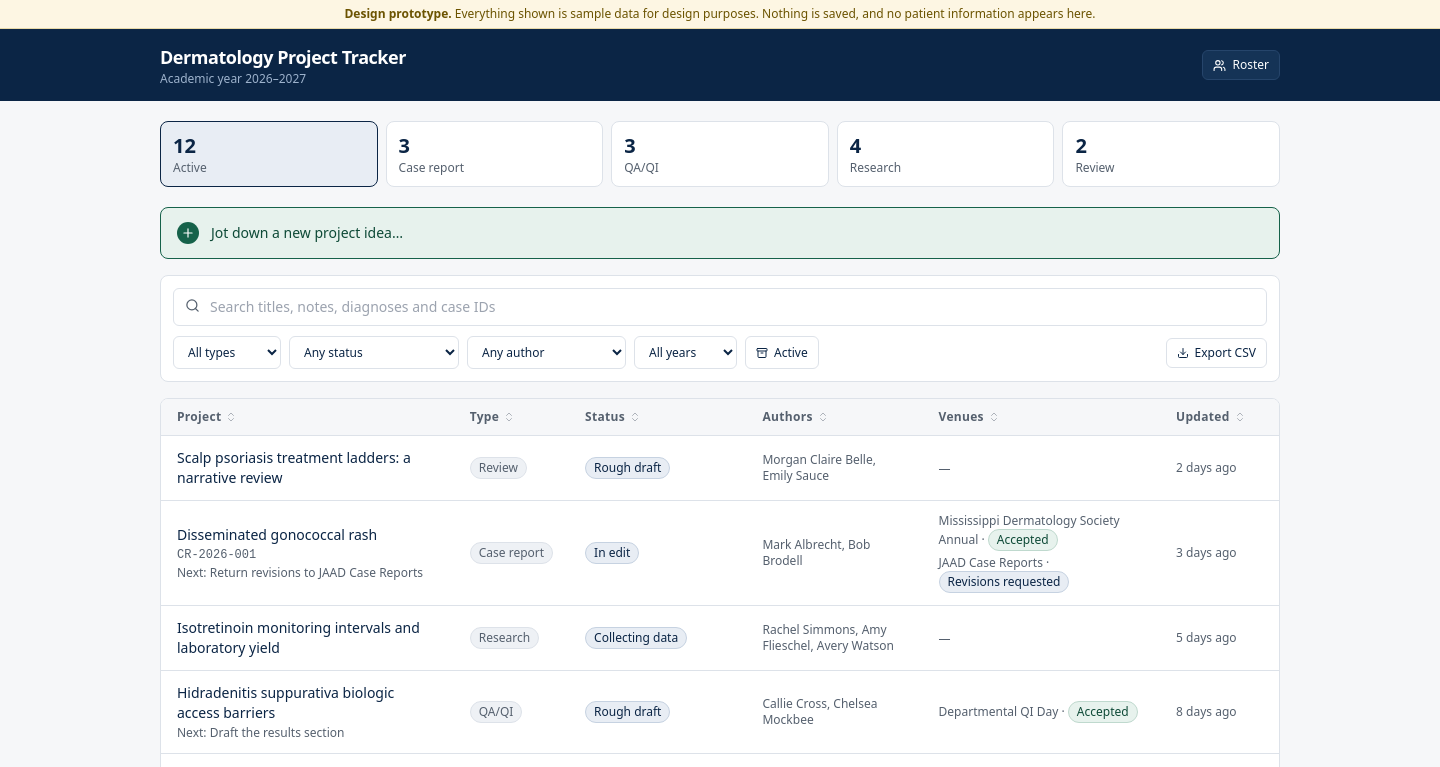
Test case: searching matches what is on the table › says so when nothing matches
Type "zzzzzz" into the field named "Search projects" at (720, 307), box [173,288,1267,326]
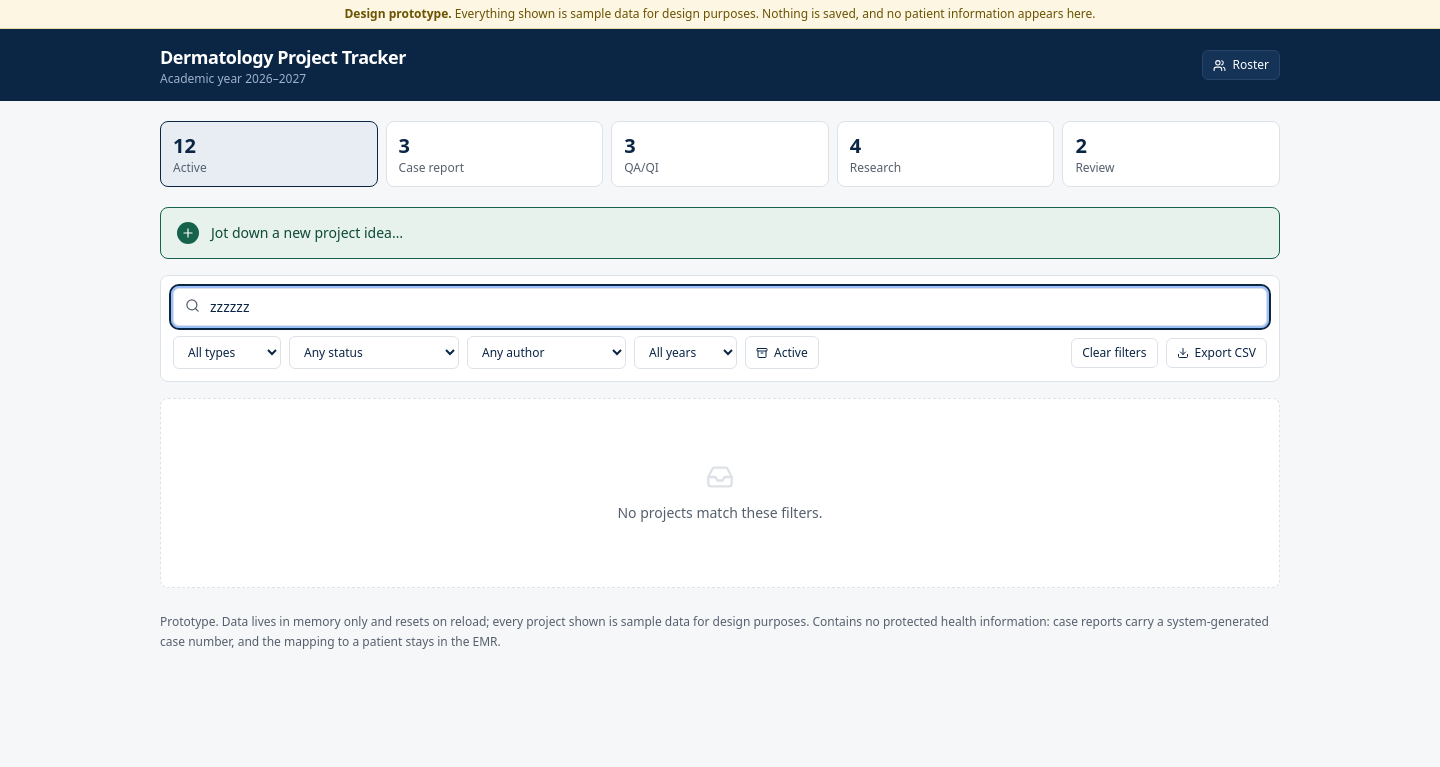
Result: the text "No projects match these filters." is shown at [618,503,822,522]
